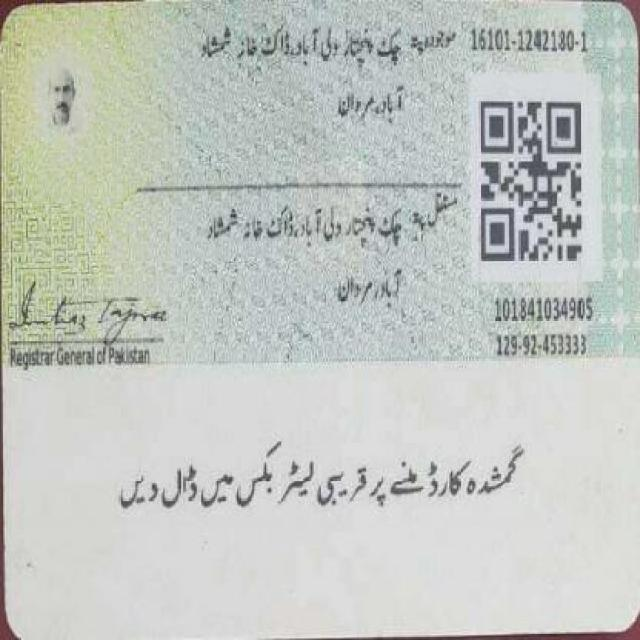Back: (2, 1, 630, 628)
